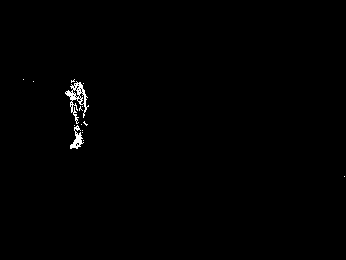person: (65, 80, 91, 148)
